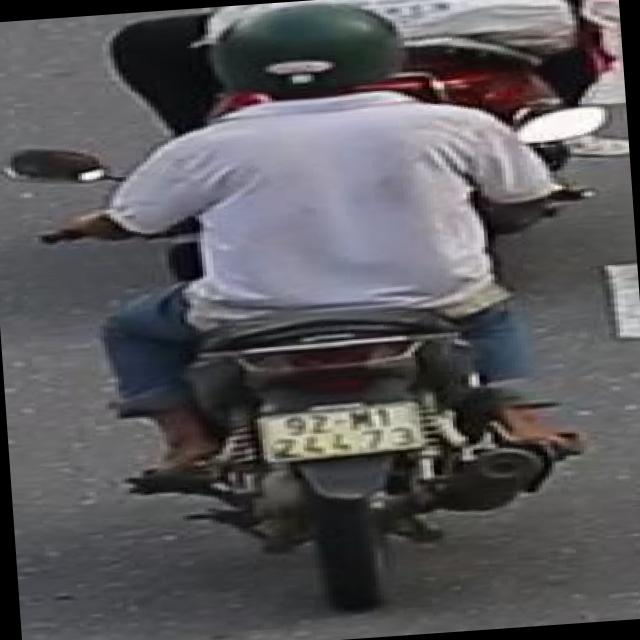LP: (250, 393, 430, 466)
helmet: (195, 0, 429, 101)
